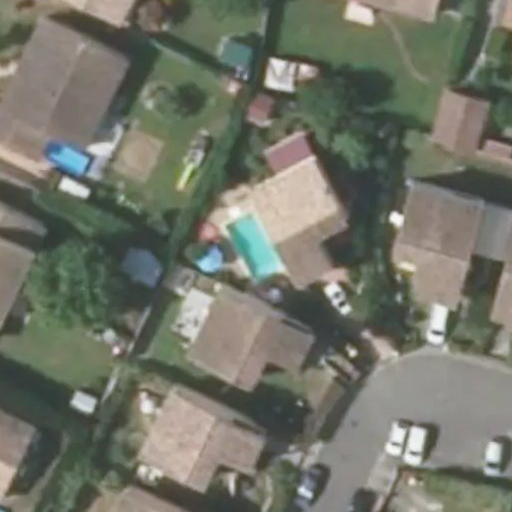pool: (226, 224, 285, 259)
